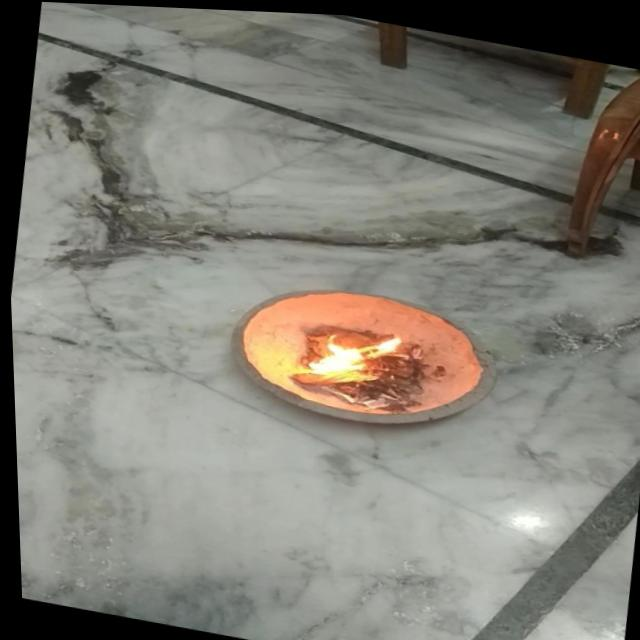fire: (292, 313, 403, 391)
